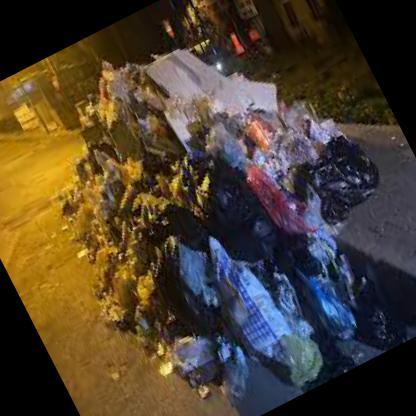Garbage: (115, 147, 384, 415), (149, 83, 379, 270), (61, 150, 216, 330), (103, 29, 250, 193), (72, 70, 190, 202), (146, 53, 282, 159)
